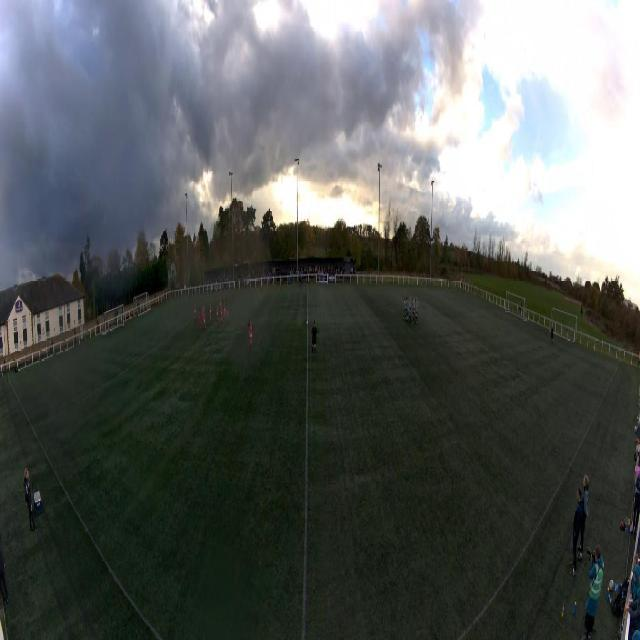ball: (306, 320, 308, 327)
player: (310, 320, 318, 358), (248, 320, 253, 352), (223, 301, 228, 323), (202, 304, 206, 329), (198, 309, 202, 330), (406, 301, 410, 322), (412, 298, 415, 325), (415, 298, 418, 324), (216, 303, 219, 327), (409, 299, 412, 323), (220, 304, 223, 326), (225, 308, 229, 324), (403, 300, 406, 321), (404, 300, 407, 320), (210, 304, 212, 325), (219, 295, 222, 309), (194, 304, 196, 323), (409, 296, 412, 308)
